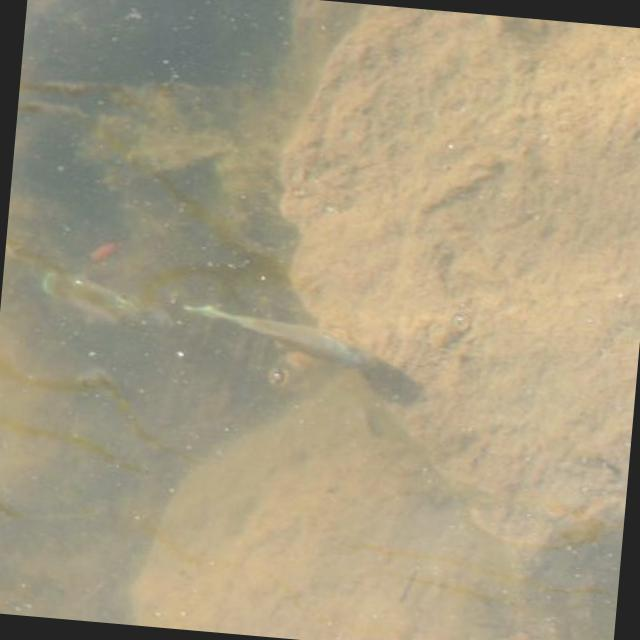Gunes Levregi: (170, 291, 392, 384)
